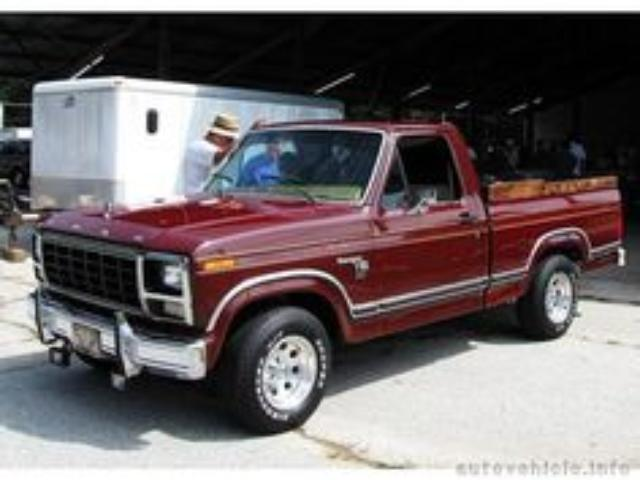pickup-truck: (28, 114, 628, 437)
